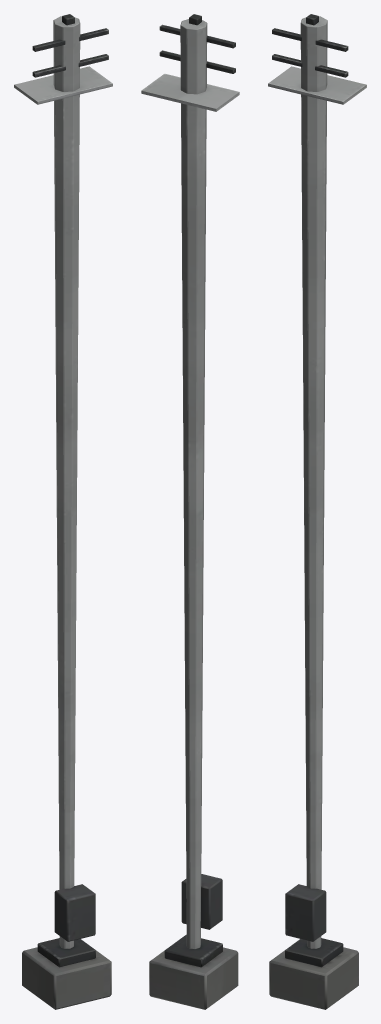
The model's file is floodMast.glb.
3 views of the same model, side by side, from view 1: azimuth 30°, elevation 25°; view 2: azimuth 150°, elevation 25°; view 3: azimuth 330°, elevation 25° (orthographic).
Parts seen in each view (by area): view 1: floodMast; view 2: floodMast; view 3: floodMast.
Part boxes in pixels (x1,y1,x2,y2): floodMast: (14, 14, 112, 1009); floodMast: (141, 14, 239, 1009); floodMast: (268, 14, 366, 1009).
Bounding box in the file's own units: 2.6 × 32.2 × 2.
1 material, 1 textured.
